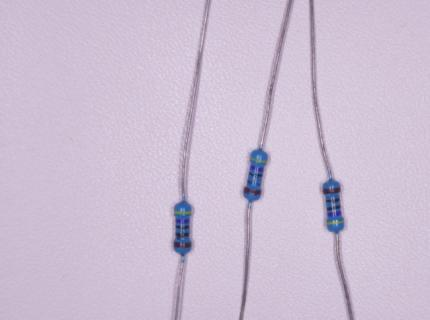Violet band: (250, 165, 264, 172), (327, 211, 342, 217), (175, 219, 190, 223)
Yellow band: (250, 157, 267, 164), (326, 220, 344, 225), (174, 210, 191, 214)
